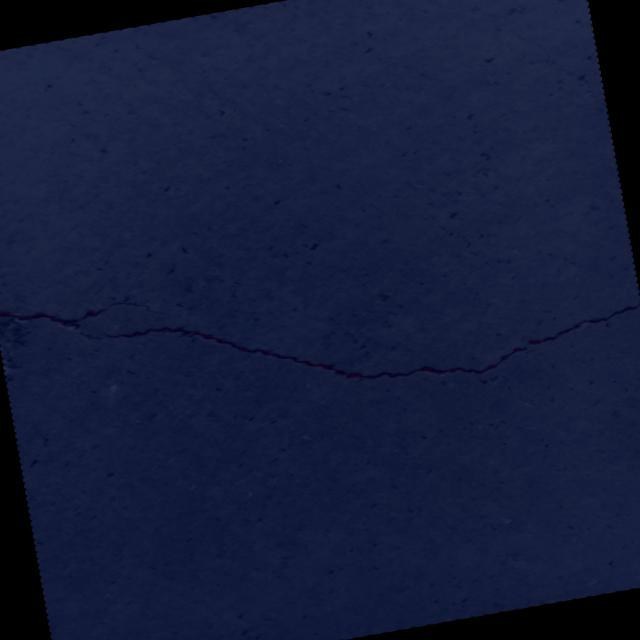crack: (0, 202, 640, 457)
